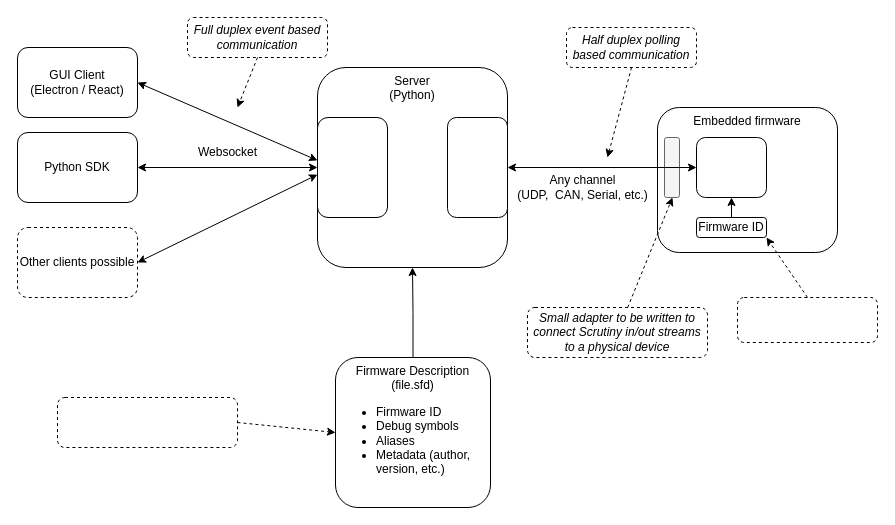
Some shapes in this 895 by 525 pixel diagram are drawn without their labels. The centre of each missing label's shape, as x and y in pixels:
Automatically loaded upon connection with the device (based on Firmware ID): the point at 147,422
Device Handler: the point at 477,167
Multiclient websocket API: the point at 352,167
Scrutiny lib (C++11): the point at 731,167
Unique ID injected in binary at build time: the point at 807,319
